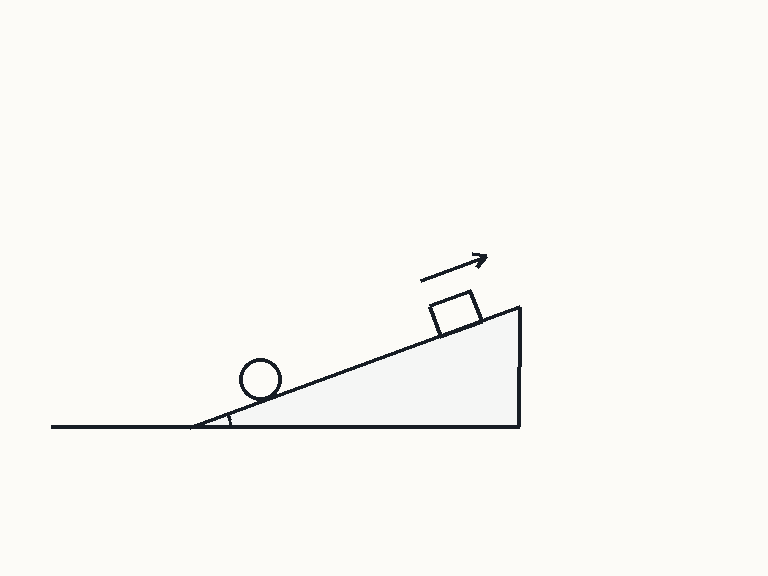ball: (237, 356, 283, 402)
block: (427, 289, 483, 338)
ramp: (188, 305, 522, 429)
